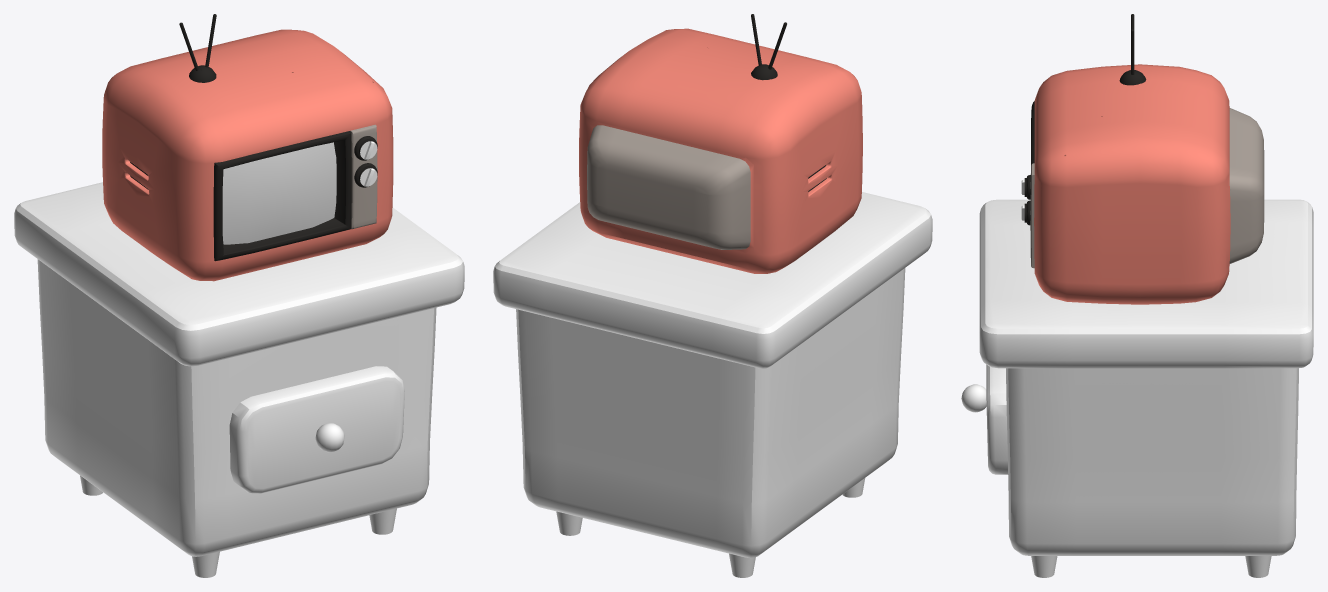
3 views of the same model, side by side, from view 1: azimuth 30°, elevation 25°; view 2: azimuth 150°, elevation 25°; view 3: azimuth 270°, elevation 25° (orthographic). The views are drawn at different scales.
Parts seen in each view (by area): view 1: Cube.023, Cube.025, Cube.024, screen, Cylinder.012, Cylinder.009, Sphere; view 2: Cube.023, Cube.025, Cylinder.012, Cylinder.009; view 3: Cube.023, Cube.025, Cube.024, Cylinder.012, Sphere, Cylinder.009.
Part boxes in pixels (left/top/right/bottom): Cube.023: left=14, top=182, right=464, bottom=556; Cube.025: left=102, top=29, right=393, bottom=281; Cube.024: left=229, top=366, right=404, bottom=493; screen: left=222, top=142, right=336, bottom=244; Cylinder.012: left=80, top=475, right=396, bottom=577; Cylinder.009: left=179, top=14, right=216, bottom=82; Sphere: left=315, top=423, right=344, bottom=452; Cube.023: left=493, top=192, right=932, bottom=558; Cube.025: left=579, top=28, right=862, bottom=273; Cylinder.012: left=556, top=478, right=865, bottom=577; Cylinder.009: left=751, top=14, right=786, bottom=80; Cube.023: left=979, top=199, right=1313, bottom=555; Cube.025: left=1030, top=64, right=1264, bottom=304; Cube.024: left=986, top=364, right=1007, bottom=474; Cylinder.012: left=1031, top=556, right=1271, bottom=577; Sphere: left=961, top=384, right=986, bottom=412; Cylinder.009: left=1119, top=14, right=1146, bottom=85.
Size of the model in its own units: 170 by 289 by 189.
